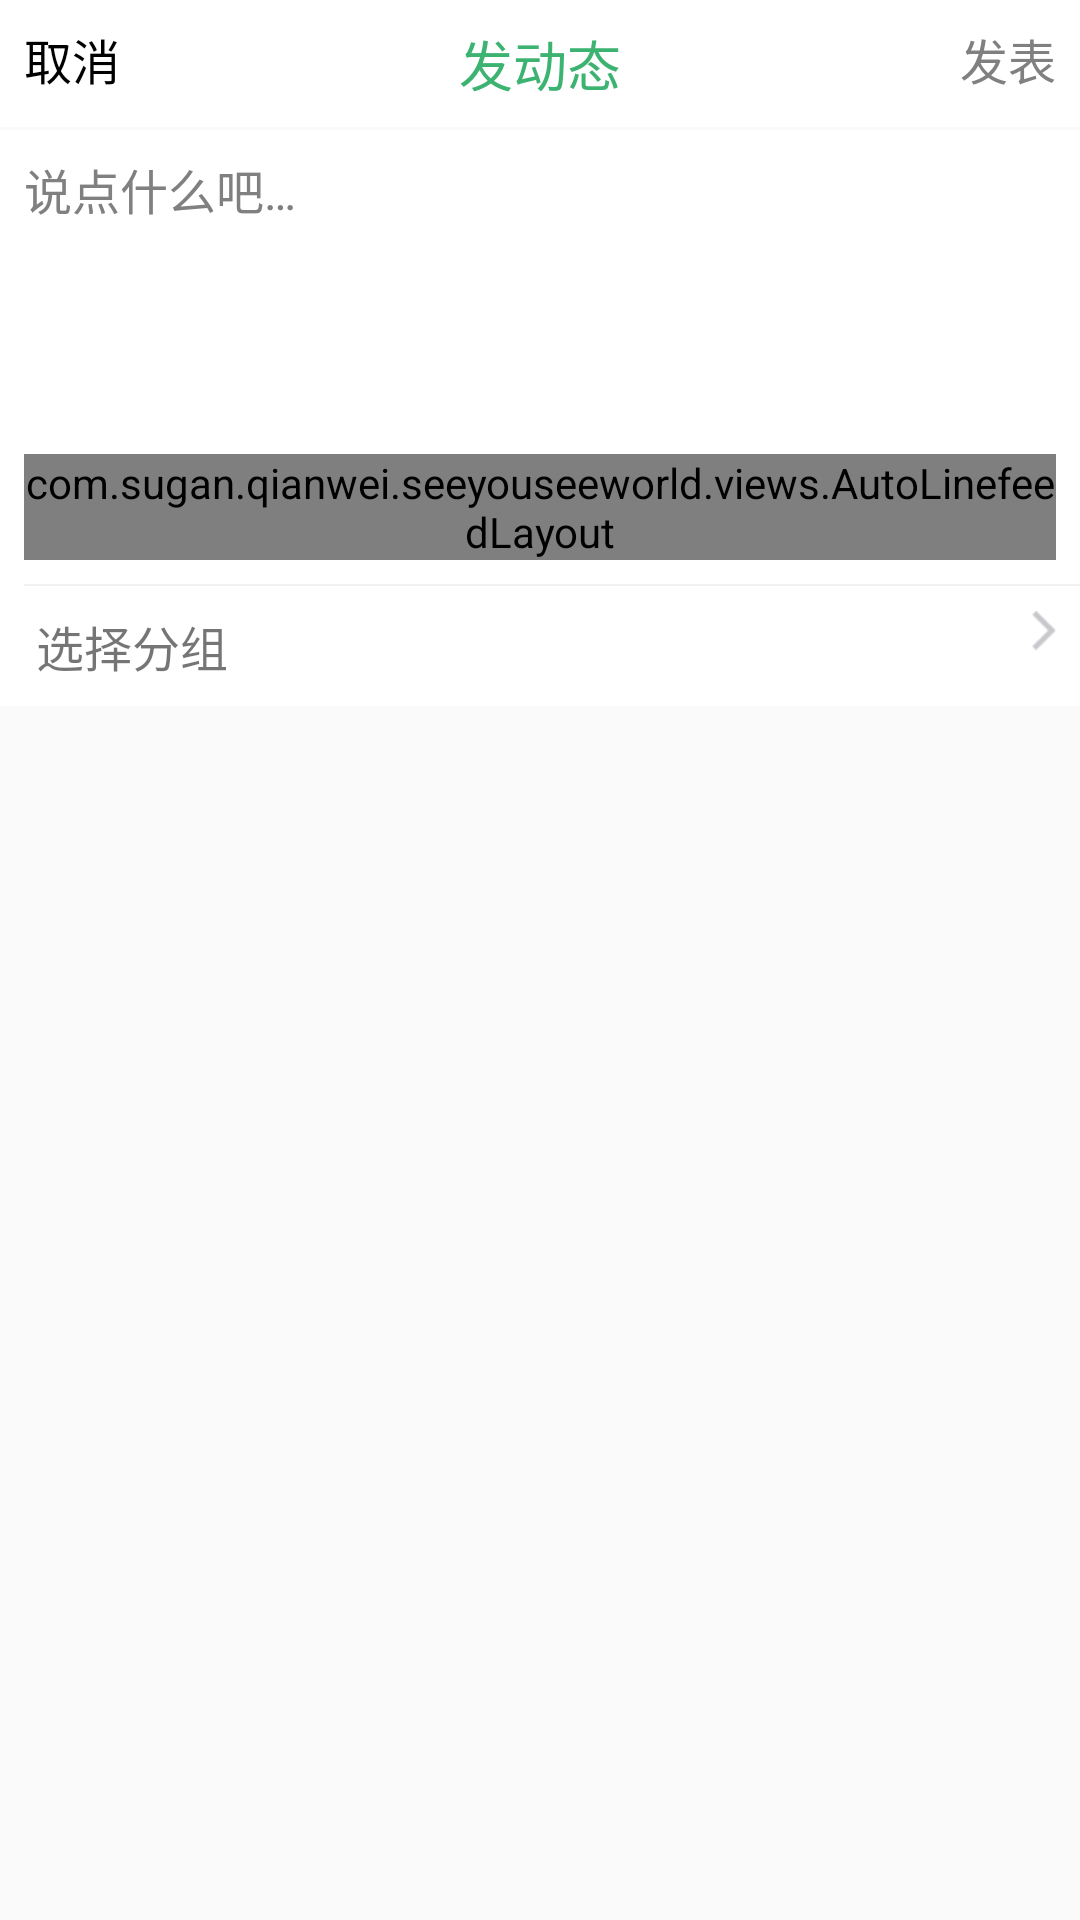

Locate icon controls on the screen. Image size 1080×1920, boxes as (x1, y1, x2, y2).
array right: (1033, 611, 1055, 650)
